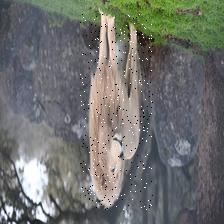Lion: (81, 14, 154, 210)
